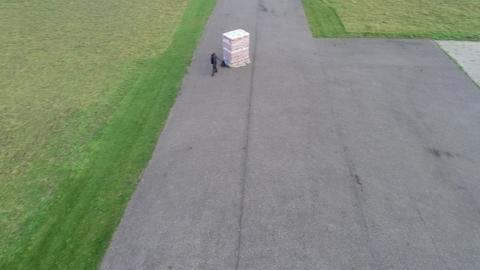RockwoolPallet: (223, 29, 251, 64)
